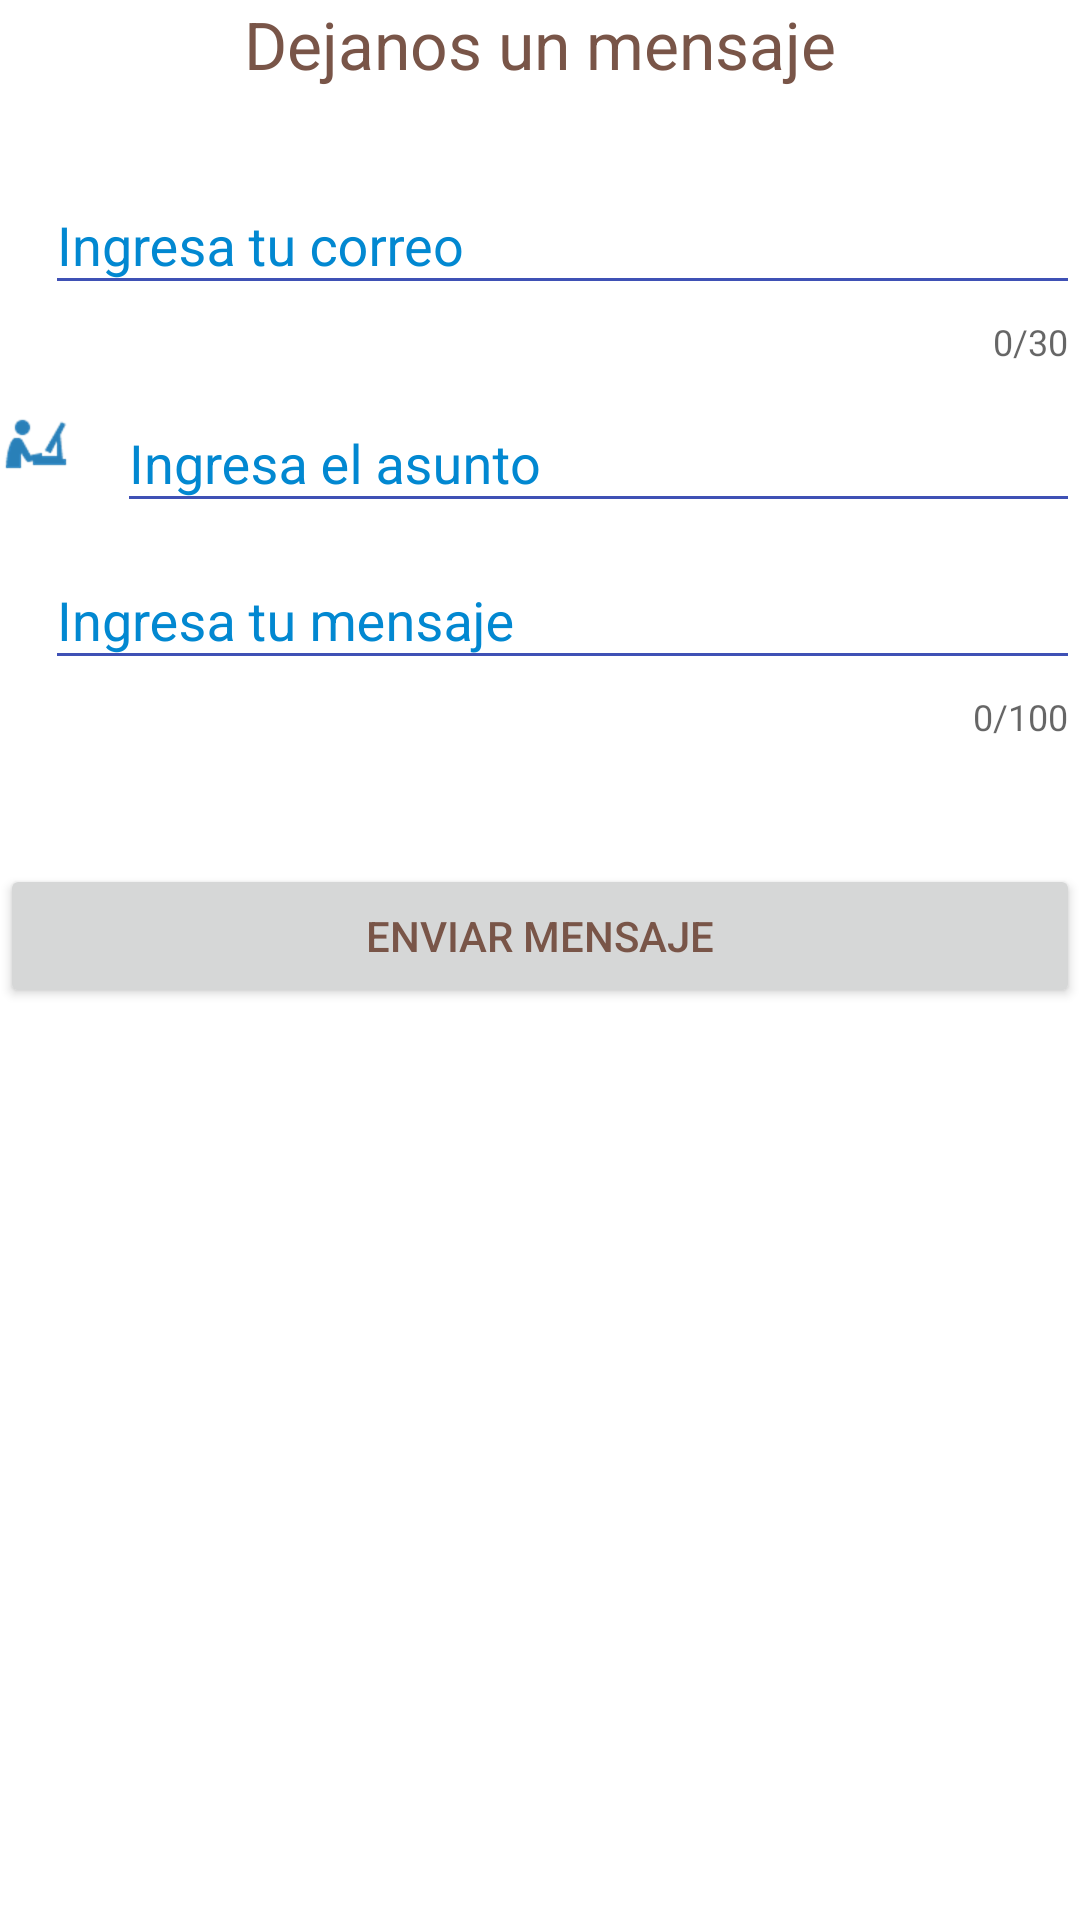

Where icons sit on this 1080px x 1920px app screen, as (left=x1, top=y1, right=x2, bottom=y2):
en pc: (left=5, top=419, right=67, bottom=469)
